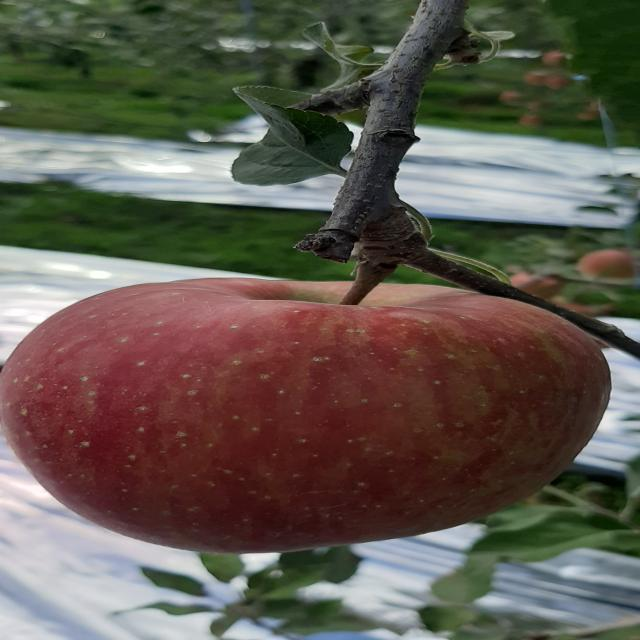fresh: (1, 263, 625, 556)
